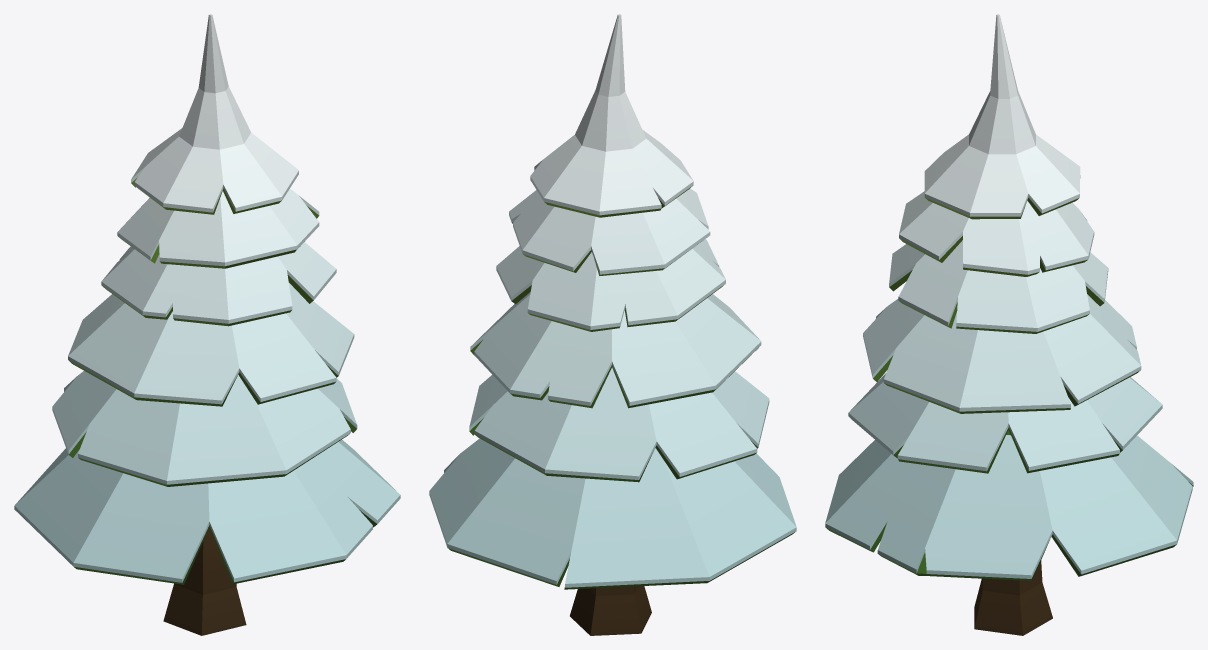
Rendered from Winter_Tree_03.glb.
The picture shows the model from 3 angles, left to right: view 1: azimuth 30°, elevation 25°; view 2: azimuth 150°, elevation 25°; view 3: azimuth 270°, elevation 25°; orthographic projection.
Visible parts, largest first — view 1: Winter_Tree_03_LOD0; view 2: Winter_Tree_03_LOD0; view 3: Winter_Tree_03_LOD0.
Boxes of the visible parts, bbox=[...] form: Winter_Tree_03_LOD0: bbox=[14, 14, 400, 635]; Winter_Tree_03_LOD0: bbox=[429, 14, 796, 635]; Winter_Tree_03_LOD0: bbox=[825, 14, 1193, 635].
Size of what is drawn, in the model's own units: 2.37 by 4.32 by 2.4.
1 material, 1 textured.
